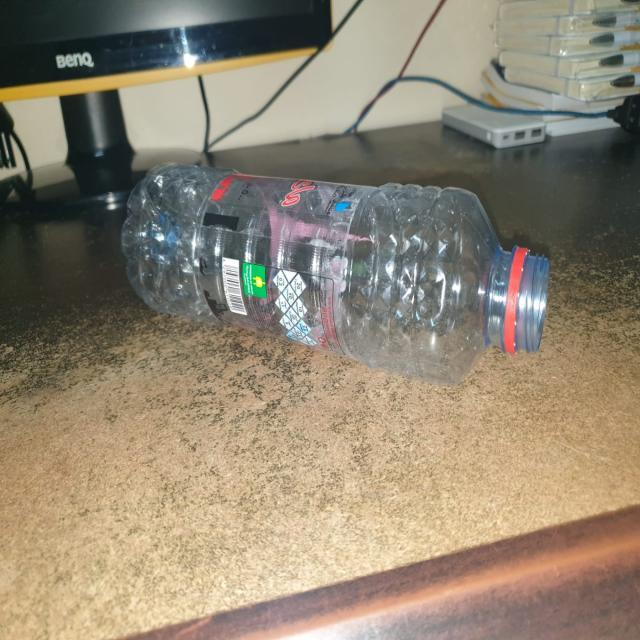chai: (122, 164, 549, 382)
